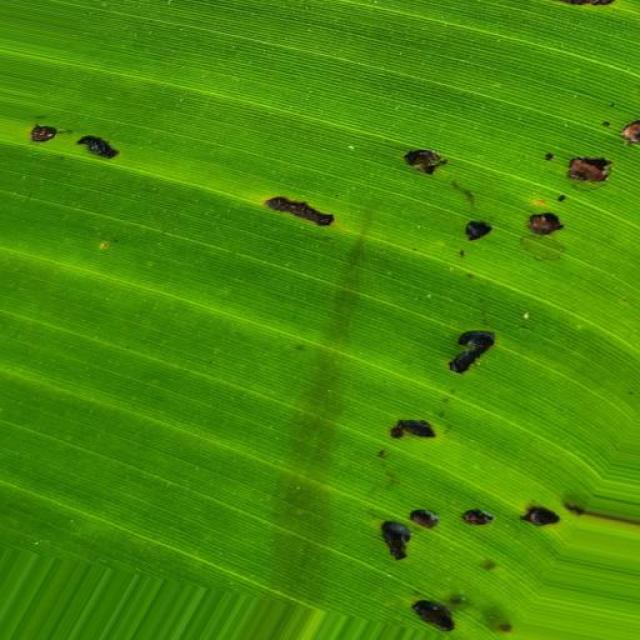Black_rot: (369, 312, 640, 640), (391, 101, 640, 256), (244, 167, 388, 258), (10, 108, 148, 173)
